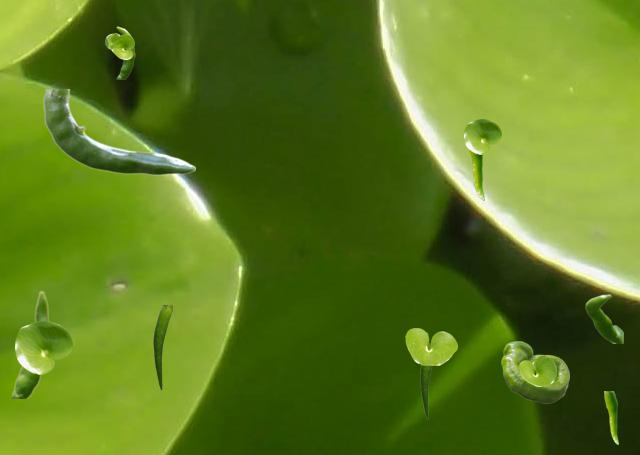green_chili: (43, 89, 194, 174), (501, 341, 568, 402), (12, 290, 48, 397), (585, 294, 622, 342), (153, 305, 171, 389), (420, 344, 433, 418), (116, 26, 134, 78), (467, 149, 483, 199), (604, 391, 617, 443)
